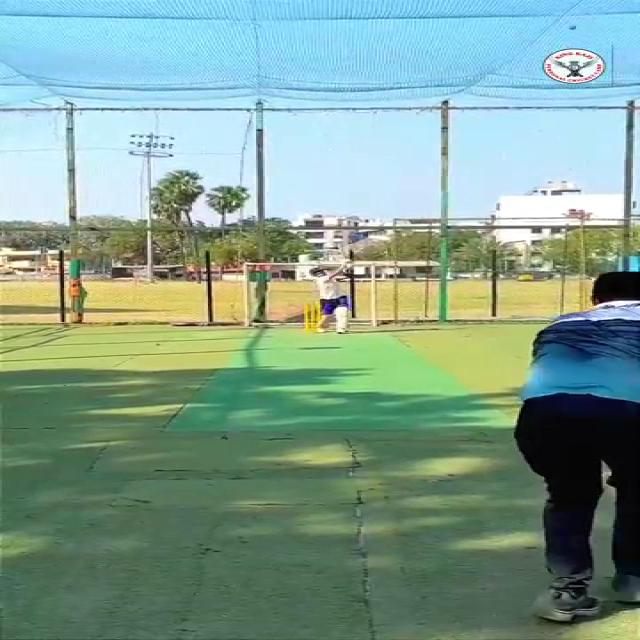batsman: (289, 243, 353, 334)
